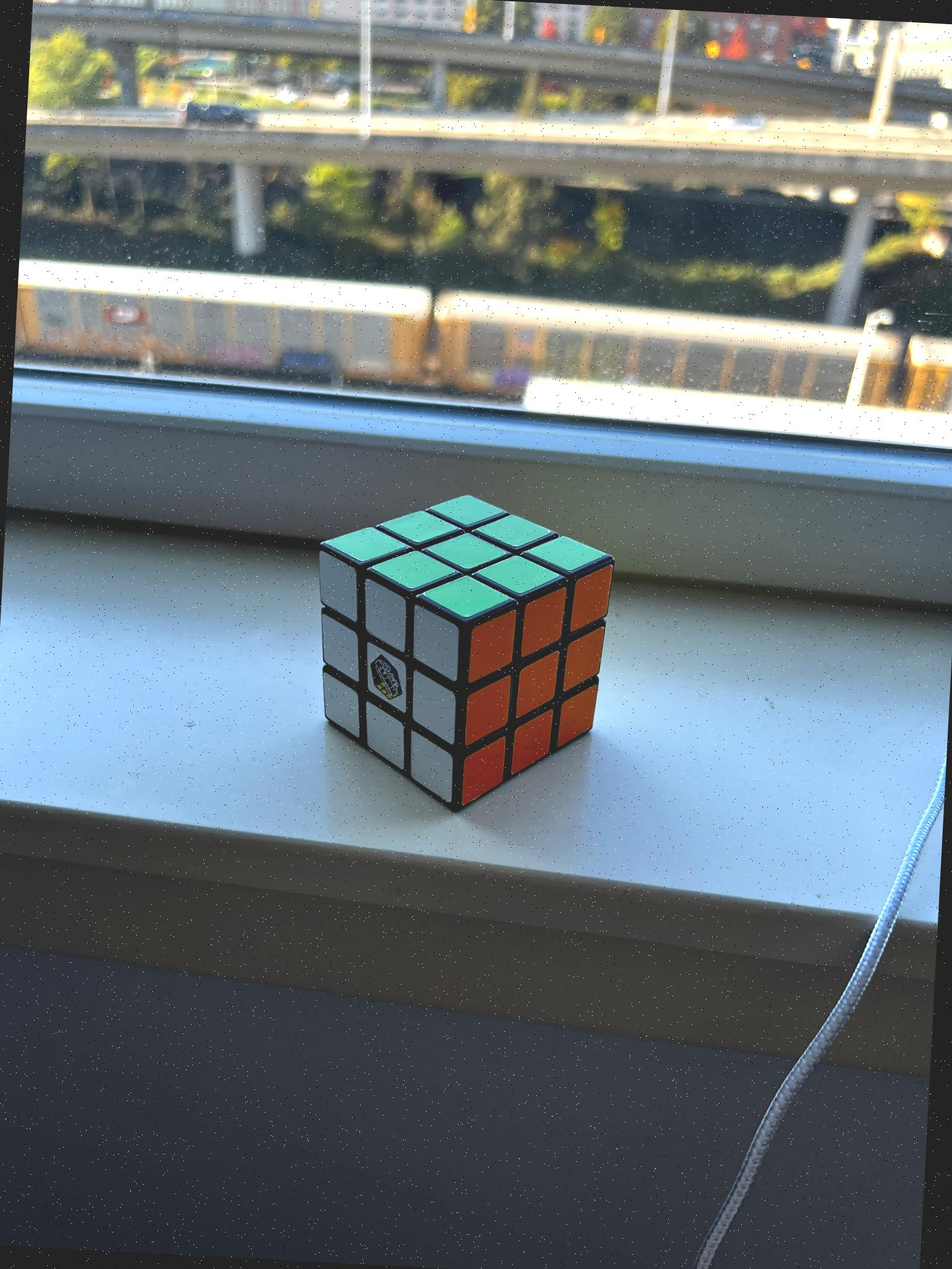rubiks_cube: (318, 495, 614, 805)
